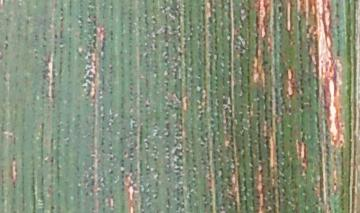tarspot: (275, 2, 283, 17), (47, 203, 57, 211)
